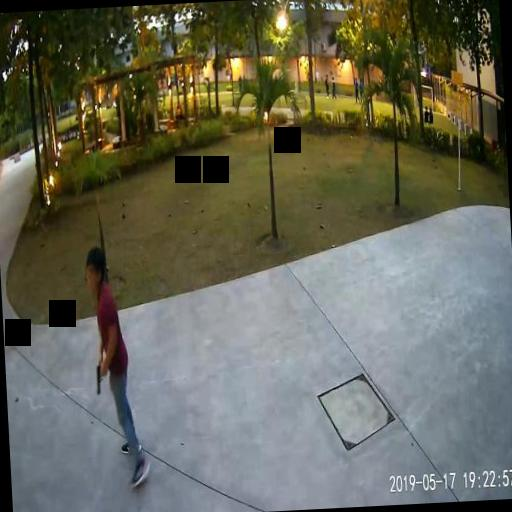Handgun: (94, 362, 106, 391)
